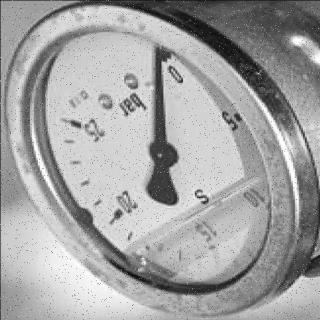gauge: (7, 0, 320, 320), (139, 37, 179, 79), (54, 100, 90, 140), (144, 140, 180, 170), (151, 42, 166, 64)
